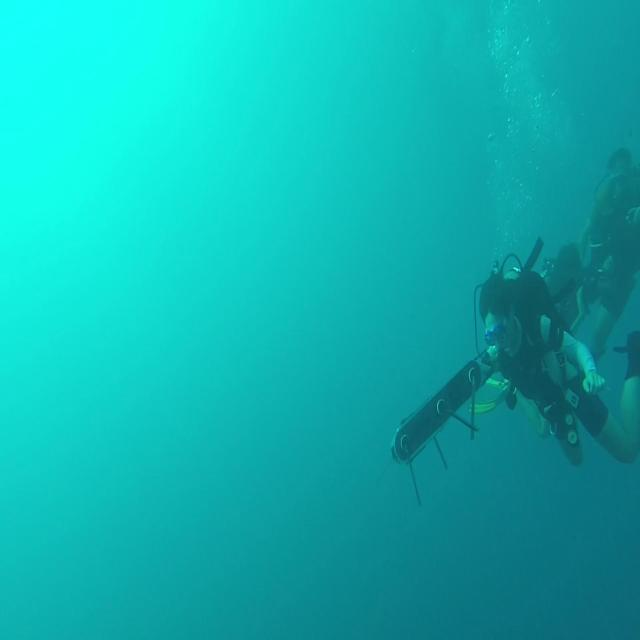human: (475, 251, 639, 467), (572, 144, 639, 362)
